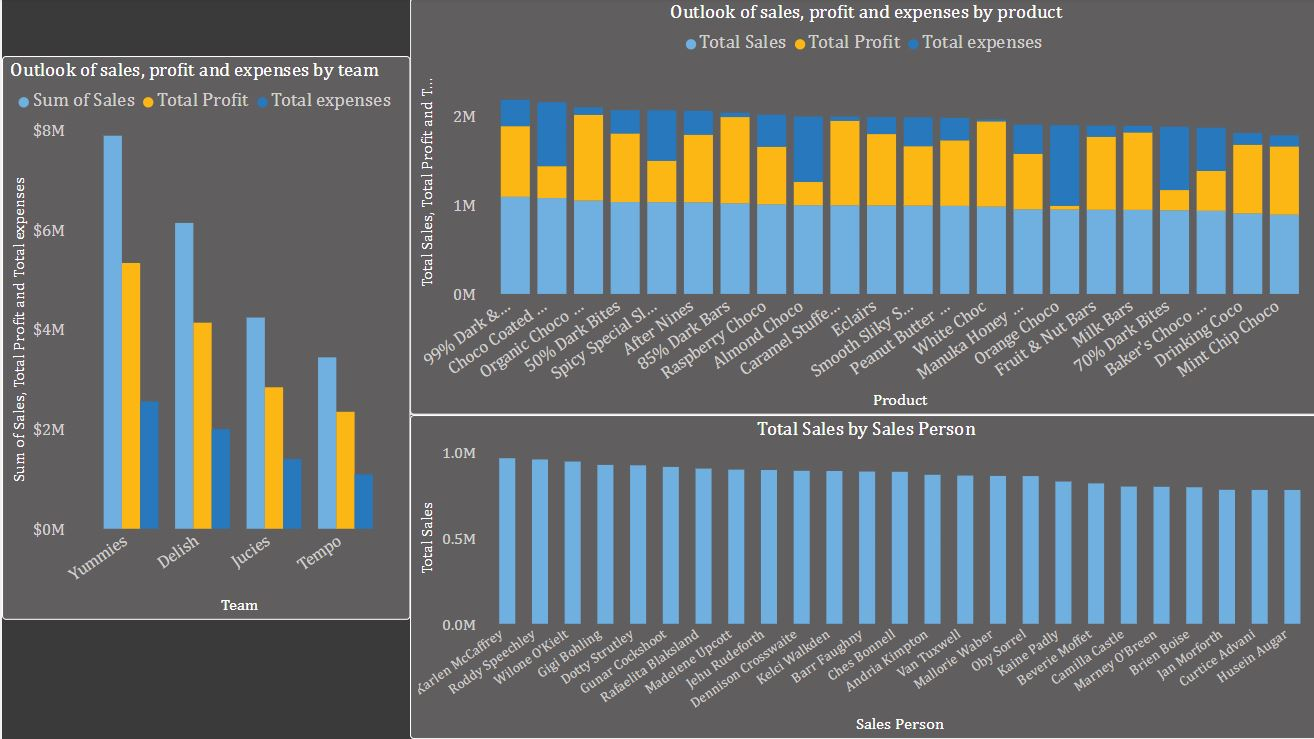

Layout of this report page (visuals, bound fields, positions):
{"tool":"powerbi","page":{"name":"Outlook of sales profit and expenses","canvas":[1280,720],"ordinal":1},"visuals":[{"type":"clusteredColumnChart","title":"Outlook of sales, profit and expenses by team","fields":{"Category":["actuals.Team"],"Y":["Sum(actuals.Sales)","actuals.Total Profit","actuals.Total expenses"]},"box":[0,56.4,396.5,548.2],"z":0},{"type":"columnChart","title":"Outlook of sales, profit and expenses by product","fields":{"Category":["actuals.Product"],"Y":["actuals.Total Sales","actuals.Total Profit","actuals.Total expenses"]},"box":[396.5,0,884.4,405.3],"z":1000},{"type":"clusteredColumnChart","fields":{"Category":["actuals.Sales Person"],"Y":["actuals.Total Sales"]},"box":[396.5,405.3,884.4,314.9],"z":2000}]}

Visuals, with their boxes in screenshot pixels (x1, y1, x2, y2), scaled from the page's 1280x720 canvas onto the 1314x739 screenshot:
"Outlook of sales, profit and expenses by team" clusteredColumnChart: BBox(0, 58, 407, 621)
"Outlook of sales, profit and expenses by product" columnChart: BBox(407, 0, 1313, 416)
clusteredColumnChart - actuals.Sales Person x actuals.Total Sales: BBox(407, 416, 1313, 738)
